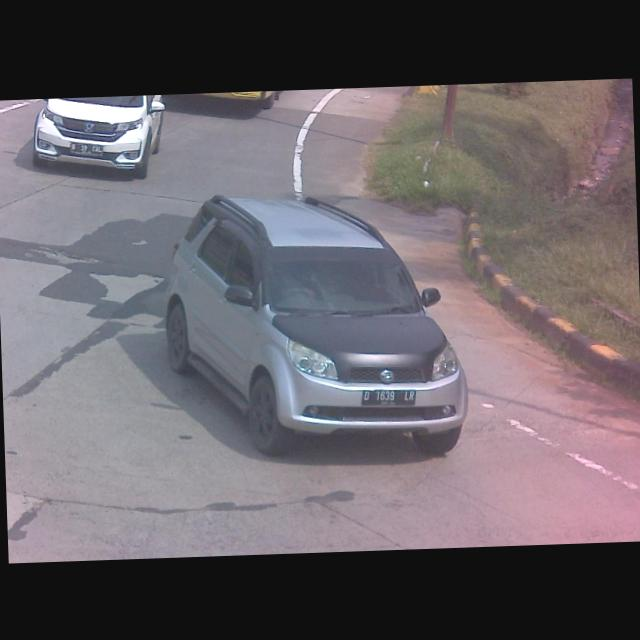plate: (360, 384, 420, 406)
